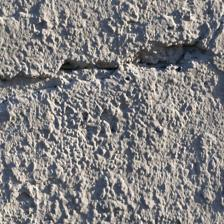Crack: (2, 16, 208, 83)
